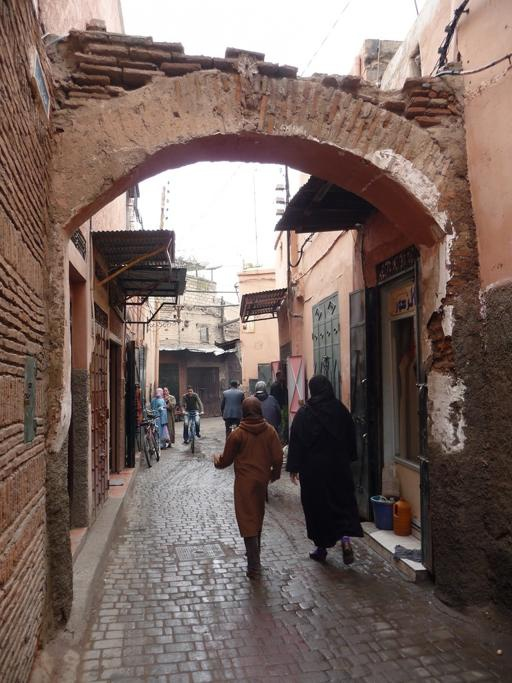non-vehicle: (139, 407, 160, 467), (181, 409, 207, 453)
